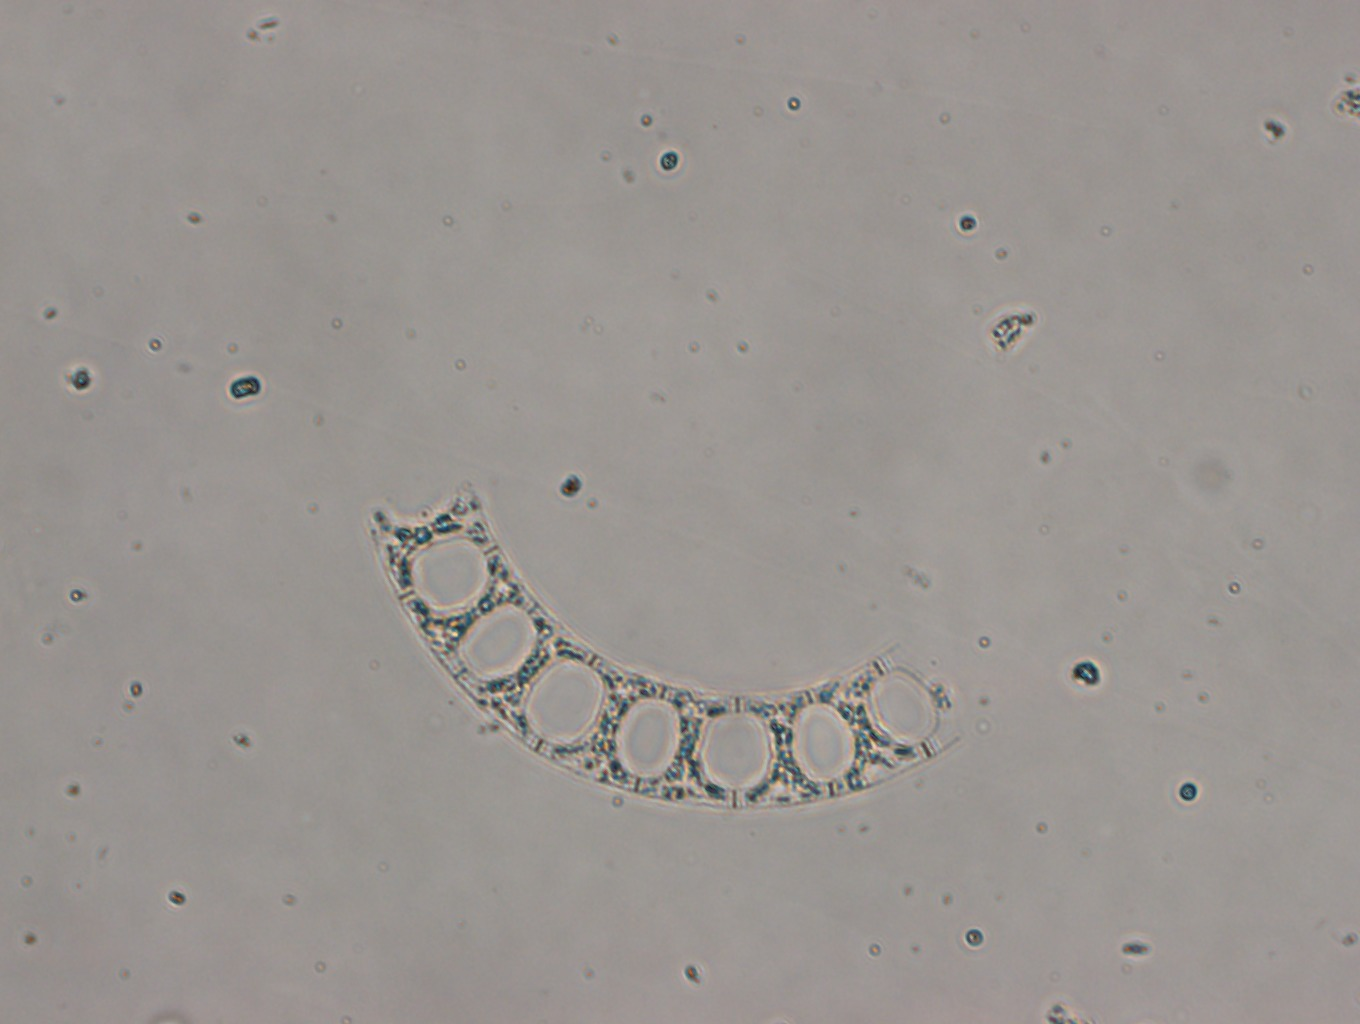eucampia: (366, 485, 962, 808)
